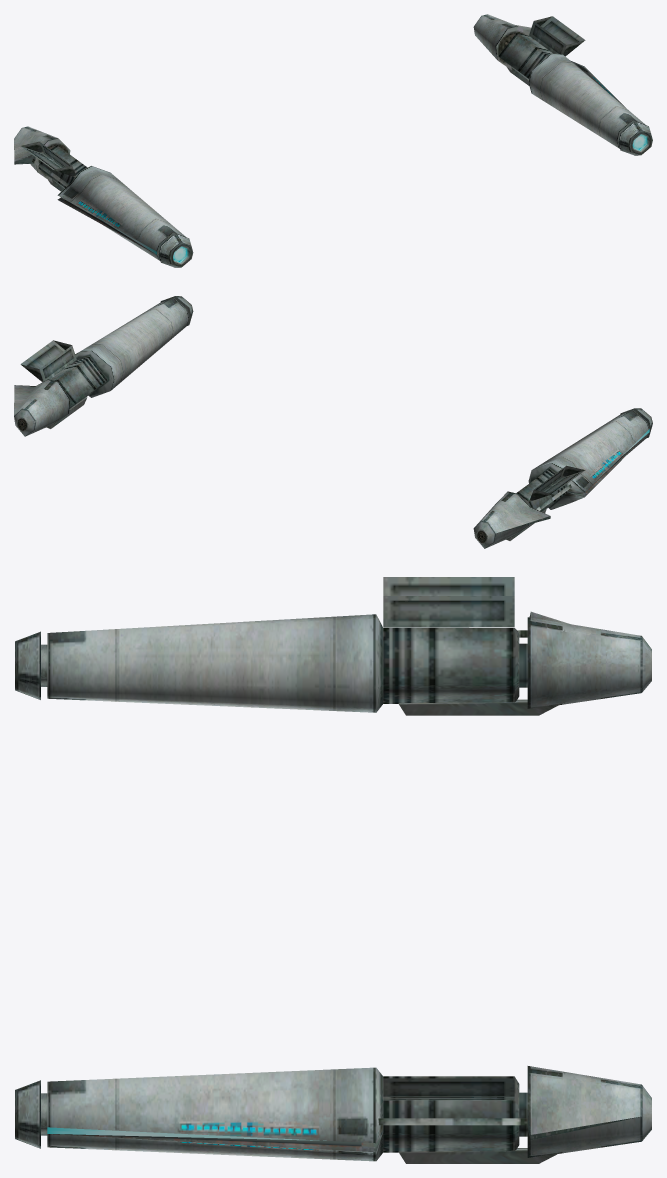
Rendered from black_sun_fighter_heavy_weapon3_s02_l1.fbx.
3 views of the same model, one above another, from view 1: azimuth 30°, elevation 25°; view 2: azimuth 150°, elevation 25°; view 3: azimuth 270°, elevation 25° (orthographic). The views are drawn at different scales.
Visible parts, largest first — view 1: mesh_node; view 2: mesh_node; view 3: mesh_node.
Part boxes in pixels (box(x1,y1,x2,y2)): mesh_node: box(14, 14, 652, 267); mesh_node: box(14, 296, 652, 548); mesh_node: box(15, 577, 651, 1163).
Size of the model in its own units: 13.93 by 1.28 by 7.17.
Materials: 1 (1 with a texture image).
